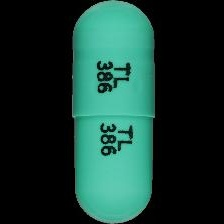59746-386: (0, 0, 224, 224)
